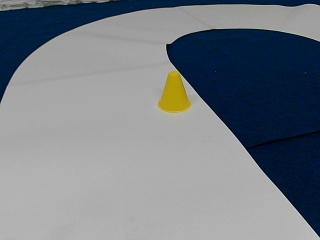cone: (158, 72, 191, 112)
